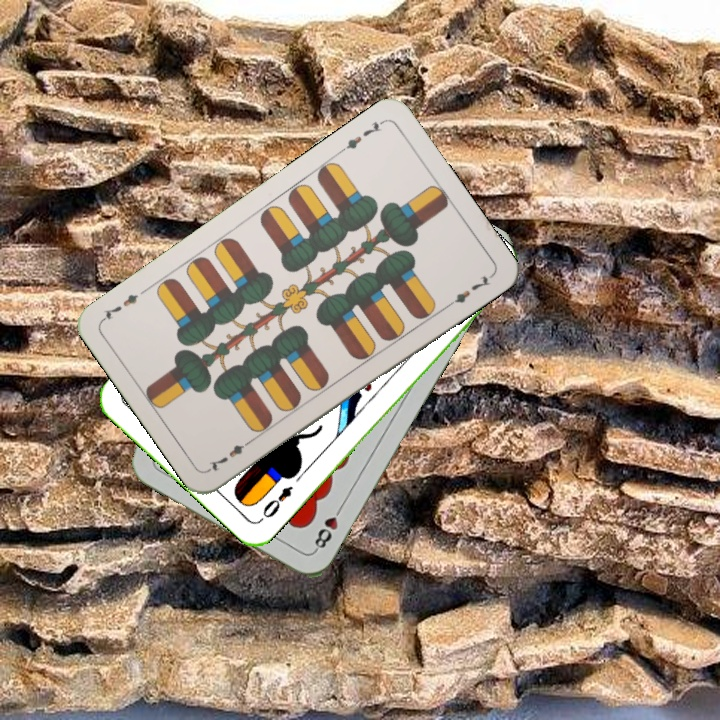E7: (204, 434, 256, 474), (335, 116, 387, 156)
EO: (256, 482, 296, 524)
H8: (310, 500, 346, 554)
